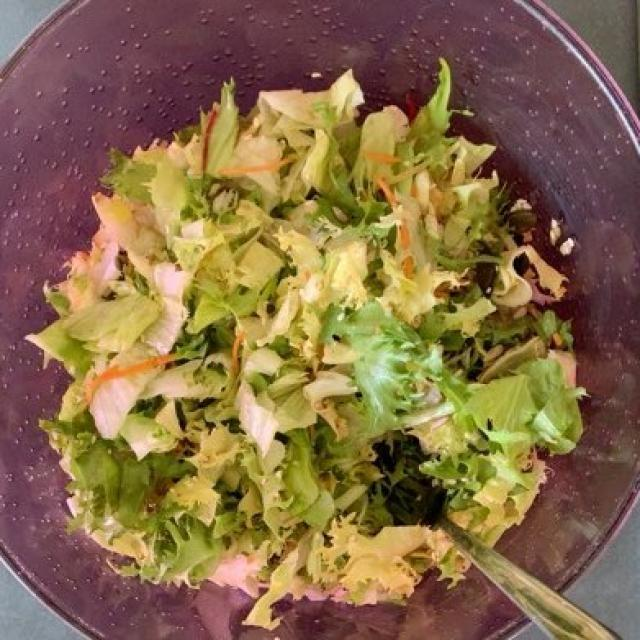salad: (45, 91, 567, 615)
